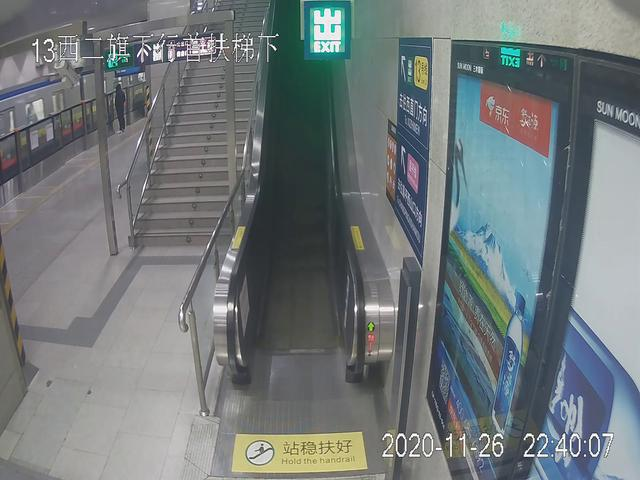person: (110, 84, 128, 133)
